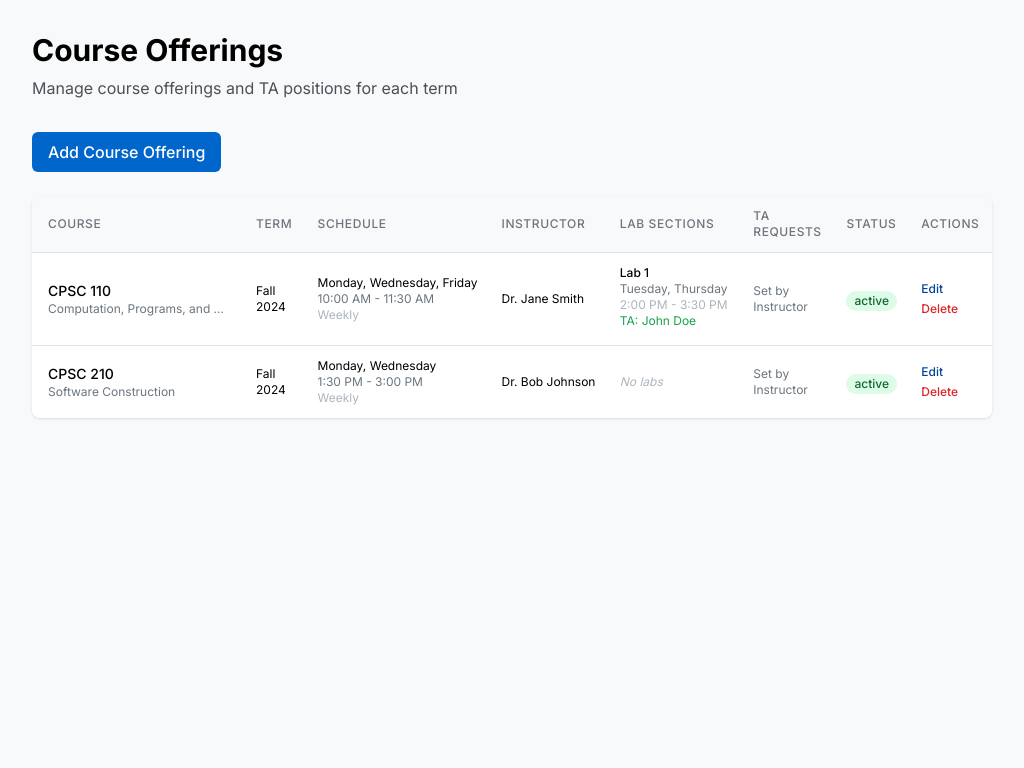
Test: CourseOfferingsPage › Lab Sections Management › adds a lab section when add lab section button is clicked
Click the button "Add Course Offering" at (127, 152), box [32,132,221,172]
(page scrolled)
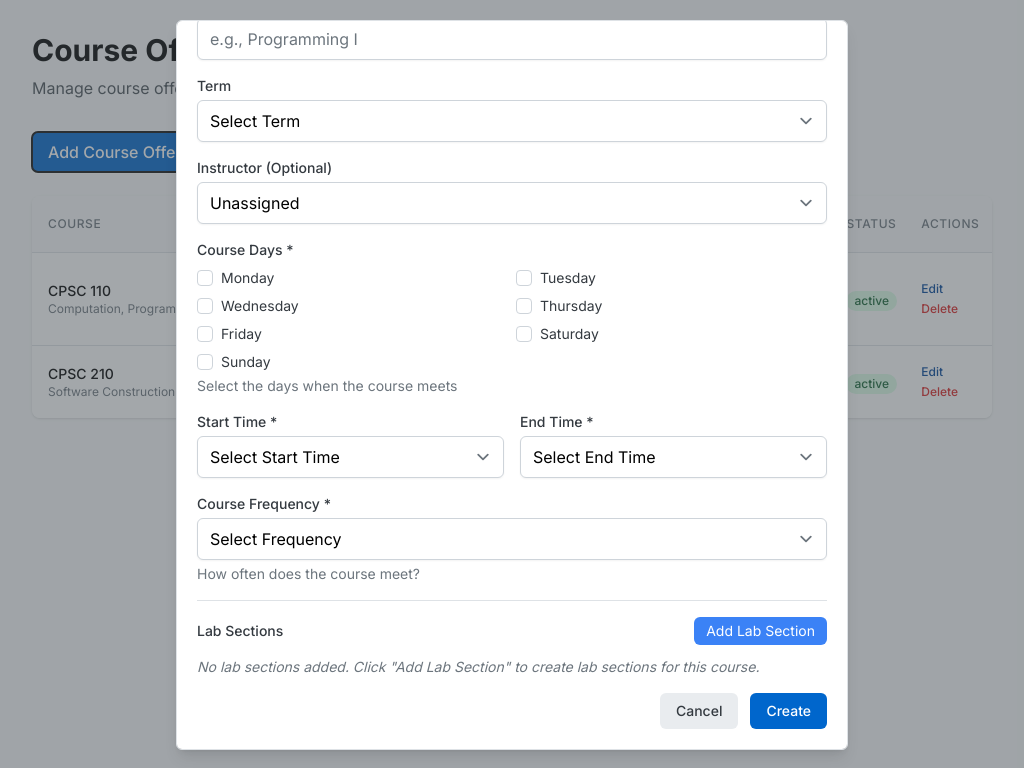
Expected: the button "Add Lab Section" is shown
Click the button "Add Lab Section" at (761, 631), box [694,617,827,645]
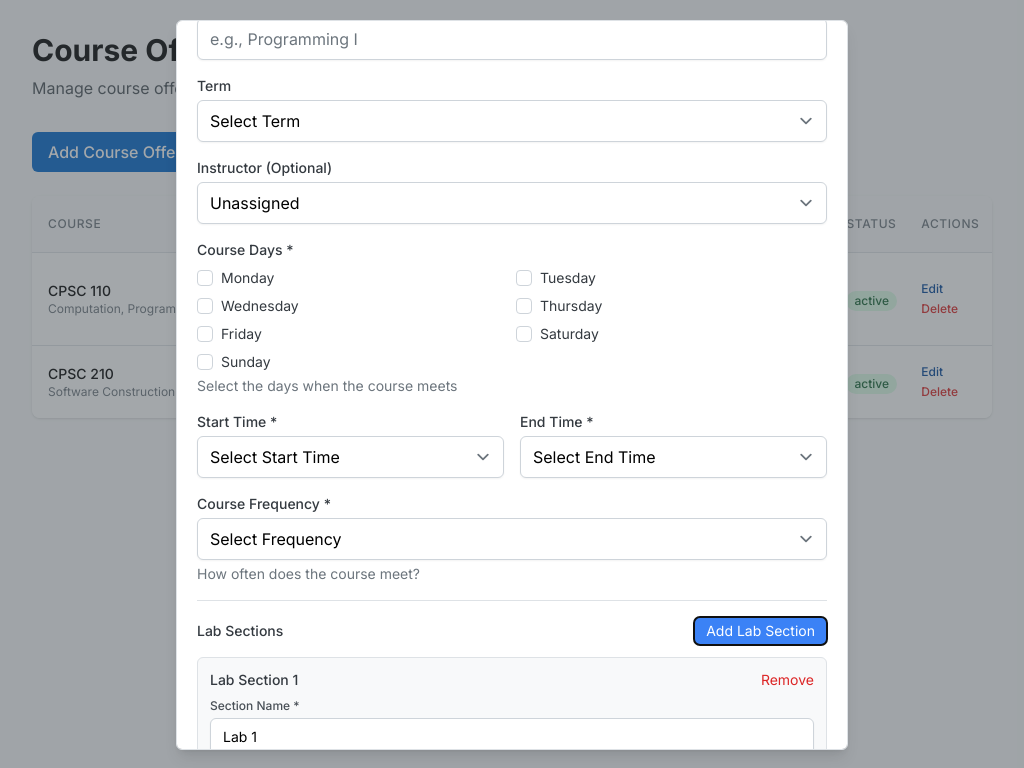
Expected: the number of fields with placeholder "e.g., Lab 1, Lab A" is 1, [210,718,814,750]
